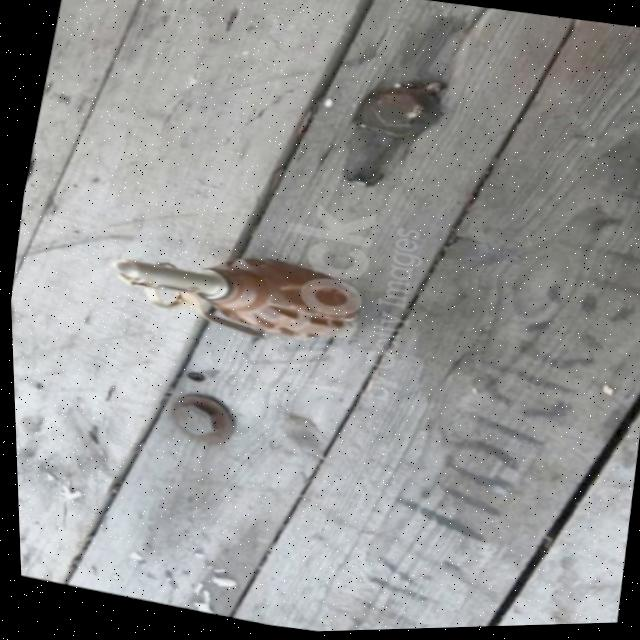grenade: (102, 222, 361, 365)
